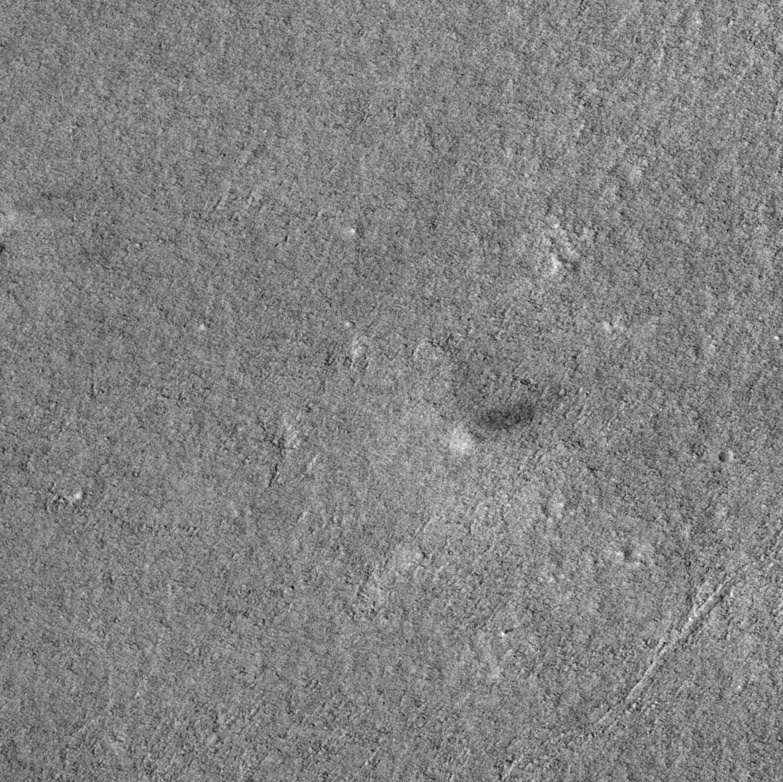dust_devil: (447, 399, 537, 457)
